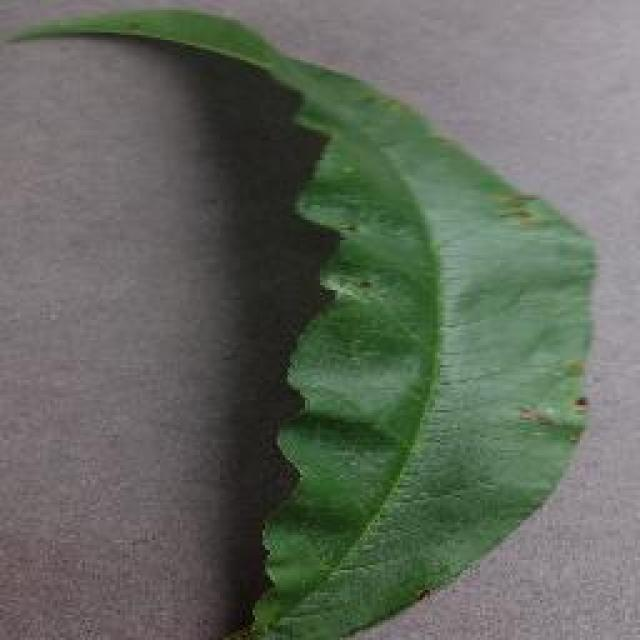Pea_Bacterial_spot: (508, 370, 602, 451), (475, 165, 566, 240)
